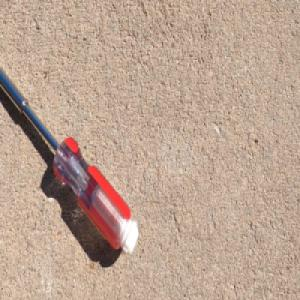Screwdriver: (0, 60, 140, 257)
